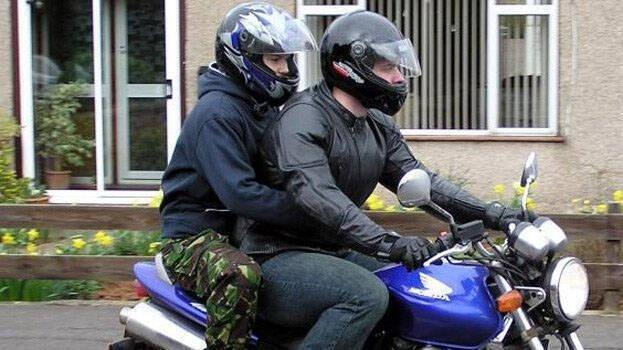helmet: (214, 1, 320, 108), (319, 9, 423, 117)
